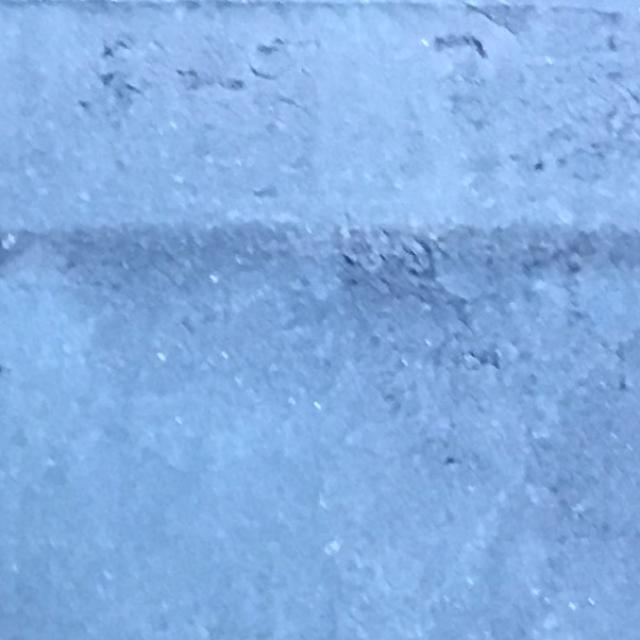Cracks: (0, 0, 640, 195), (311, 195, 640, 506)
